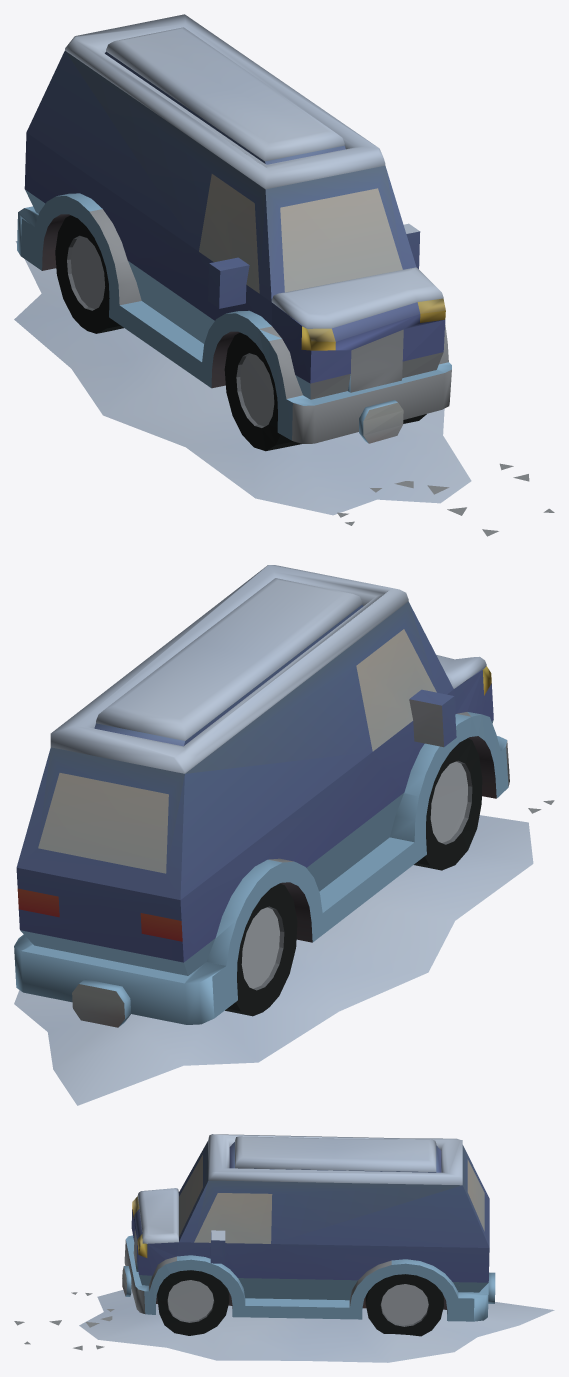
The model's file is van_crashed.glb.
3 renders of one model, top to bottom at view 1: azimuth 30°, elevation 25°; view 2: azimuth 150°, elevation 25°; view 3: azimuth 270°, elevation 25°, orthographic. The views are drawn at different scales.
Parts seen in each view (by area): view 1: Body, Glass; view 2: Body, Glass; view 3: Body, Glass.
Part boxes in pixels (bbox=[...]): Body: bbox=[14, 14, 554, 536]; Glass: bbox=[17, 189, 451, 443]; Body: bbox=[14, 565, 554, 1105]; Glass: bbox=[14, 712, 508, 1027]; Body: bbox=[14, 1134, 554, 1362]; Glass: bbox=[124, 1235, 495, 1321].
Bounding box in the file's own units: 2.83 × 2.64 × 7.38.
